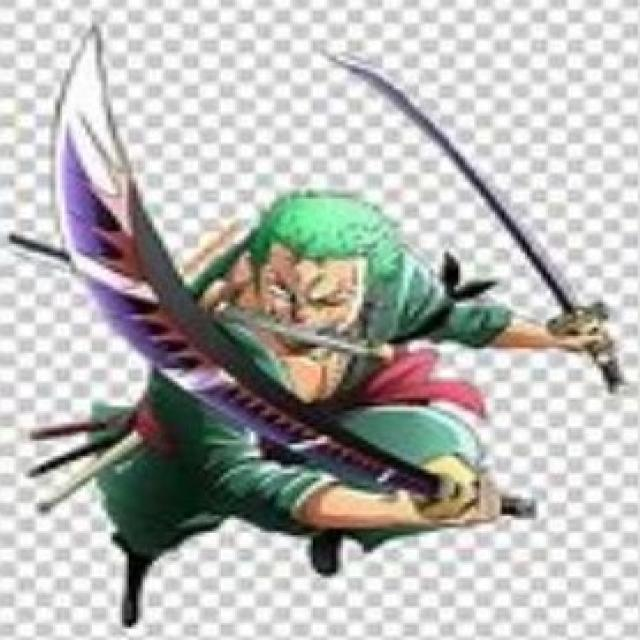Zoro: (53, 30, 612, 627)
